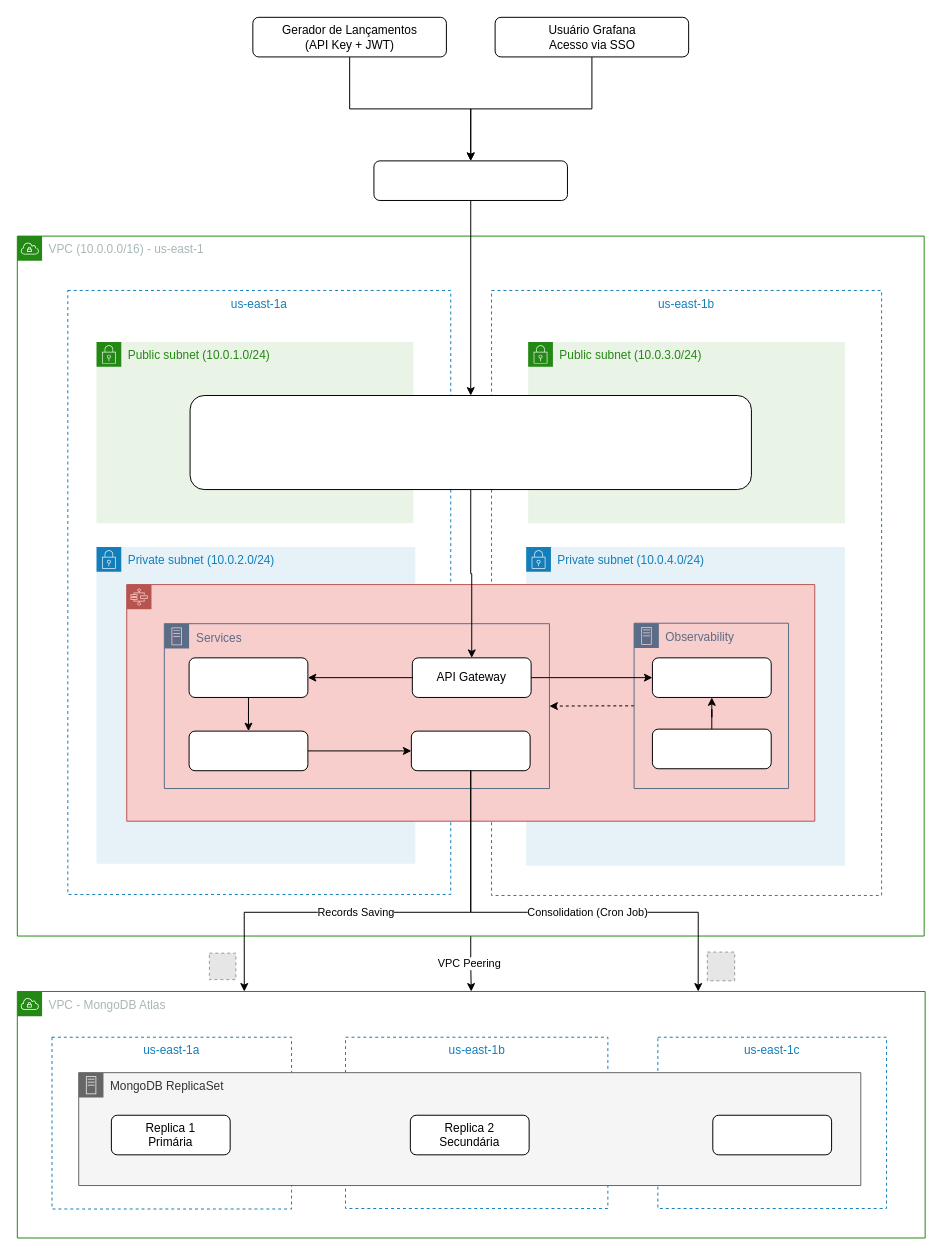
The diagram is 942 pixels wide and 1255 high, and some of its shapes have lost their labels. Grey dashed boxes stand in for pictures. Each missing label, with the centre of its shape:
"Financial Worker (Asp.Net Web API)" belongs at [470,750].
"FinancialAPI (Asp.Net Web API)" belongs at [248,677].
"Grafana" belongs at [711,677].
"Kubernetes" belongs at [470,702].
"Load Balancer" belongs at [470,442].
"Message Bus Rabbit MQ" belongs at [248,750].
"Prometheus" belongs at [711,748].
"Replica 3 Secundária" belongs at [772,1134].
"WAF + CloudFront" belongs at [470,180].
